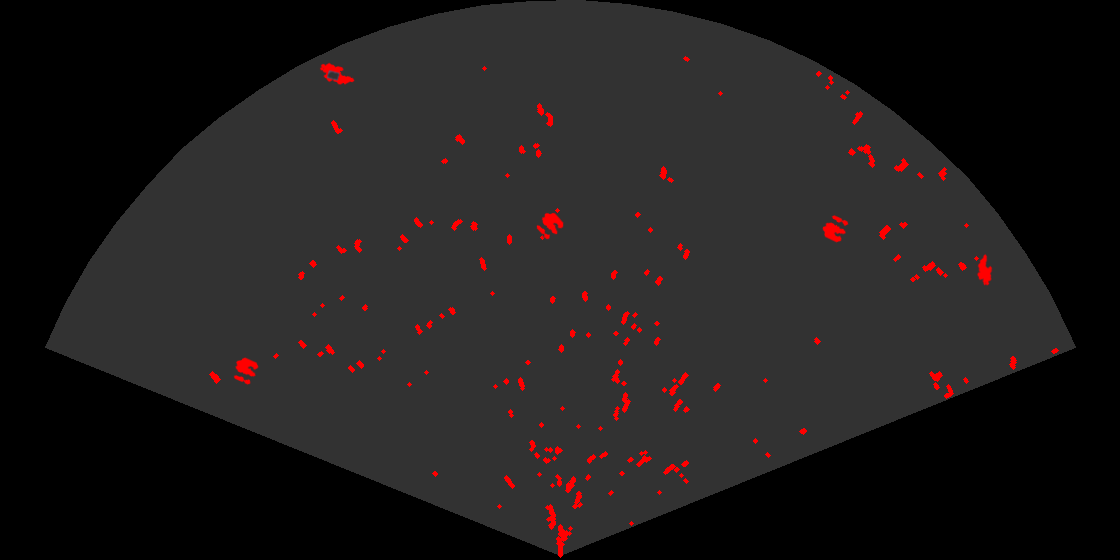AUV: (318, 61, 356, 87), (975, 252, 994, 287)
ball: (535, 211, 565, 241), (821, 214, 850, 244), (232, 356, 260, 386)
